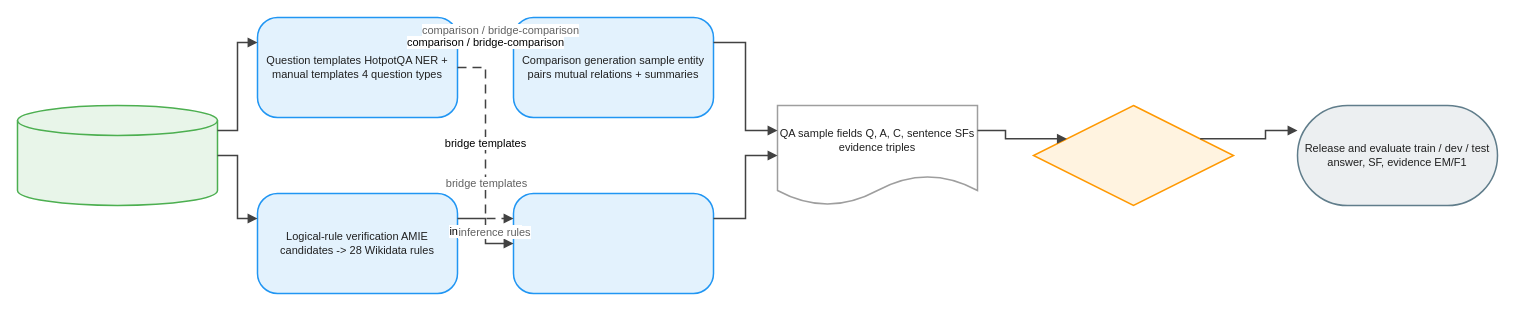
This 1516x312 diagram has some shape labels left out. The centre of each missing label's shape, as x and y in pixels:
"Bridge generation build two-hop chains inference + compositional" goes at (x=613, y=243).
"Quality gates remove ambiguity, equal comparisons check Wiki-Wikidata mismatches" goes at (x=1133, y=155).
"Wiki summaries + Wikidata 5.95M entities / 23,763 groups" goes at (x=117, y=155).
